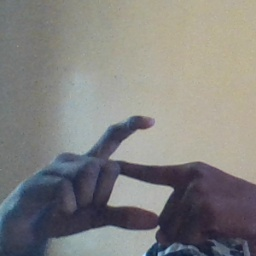E: (75, 115, 183, 233)
